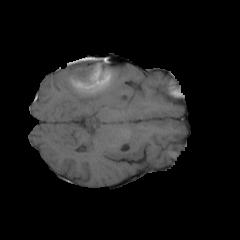glioma: (63, 57, 129, 104)
